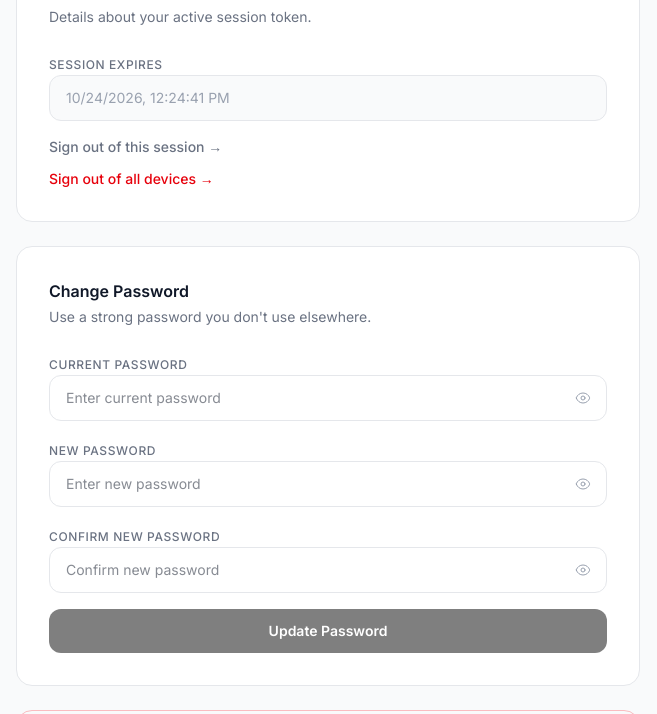
Scenario: account page › surfaces a wrong current password
(page scrolled)
Step 1. Type "nope" into the password field labelled "Current Password" → (328, 398), box [49,375,607,421]
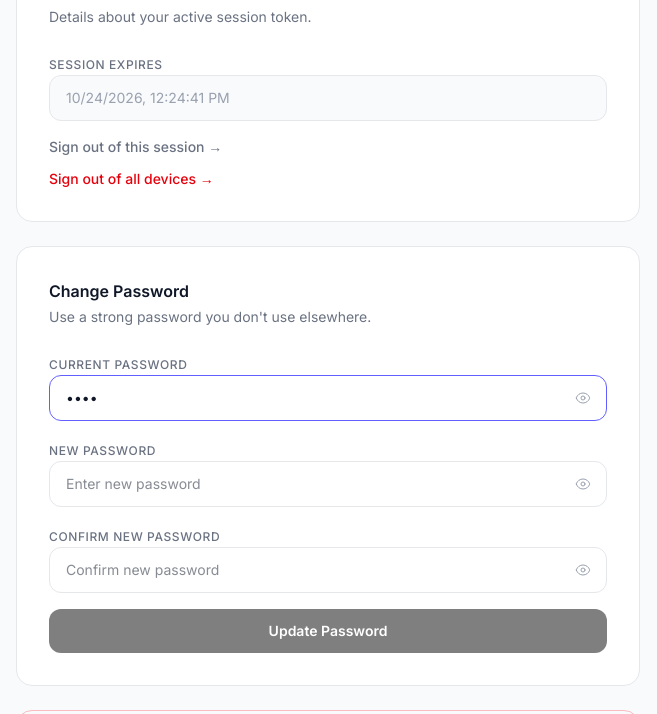
Step 2. Type "NewSecret1" into the password field labelled "New Password" → (328, 484), box [49,461,607,507]
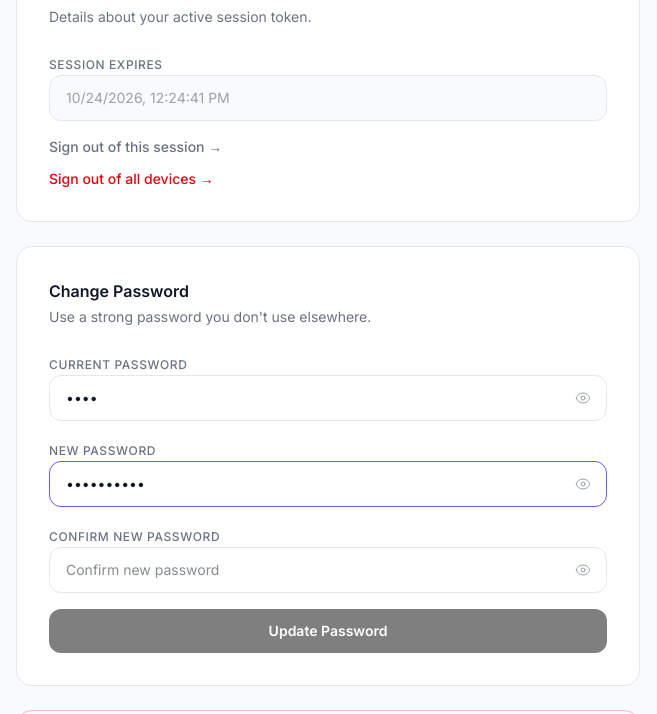
Step 3. Type "NewSecret1" into the password field labelled "Confirm New Password" → (328, 570), box [49,547,607,593]
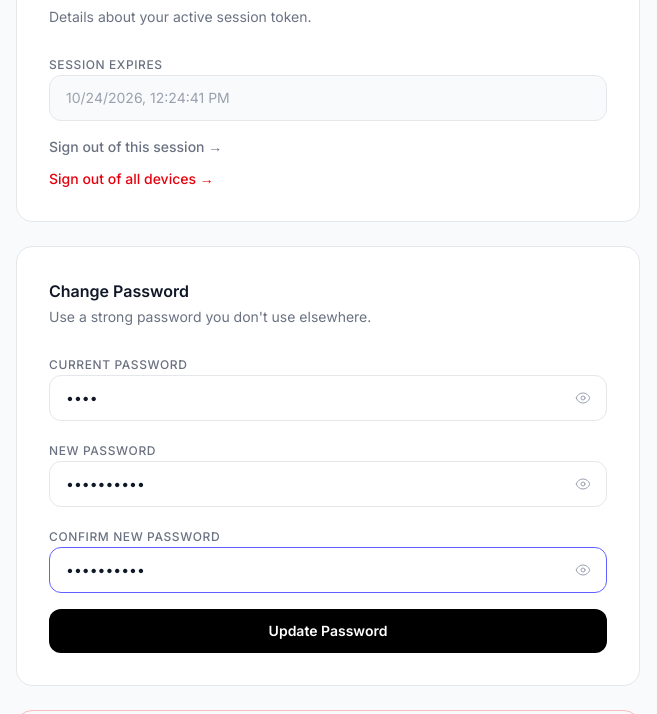
Step 4. Click the button "Update Password" → click(328, 631), box [49,609,607,653]
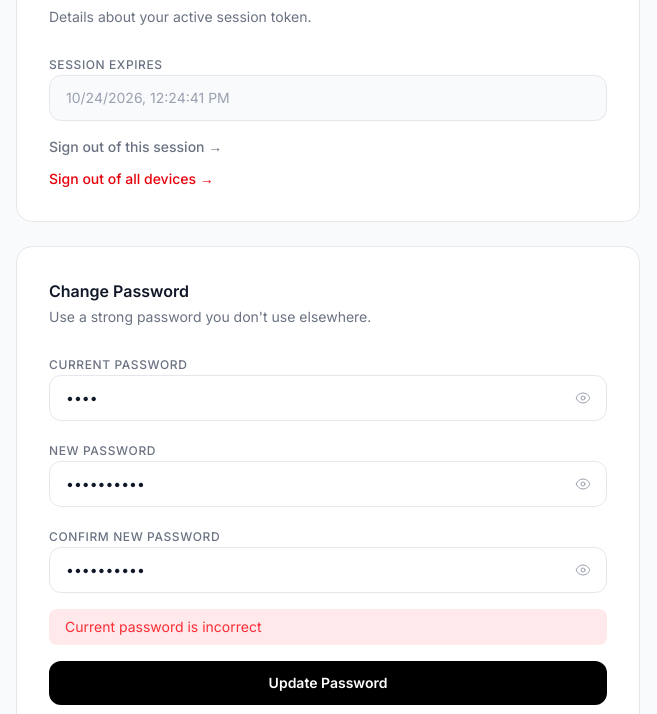
Expected: the text "Current password is incorrect" is shown, [49,609,607,645]
